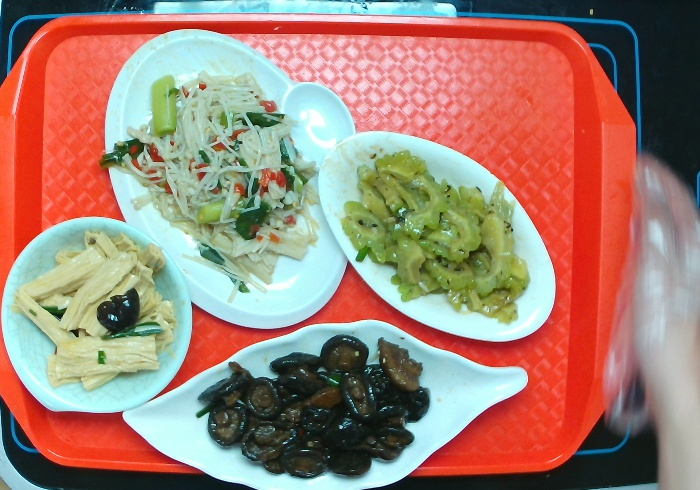RJxy-Bai_Se_Tuo_Yuan: (317, 127, 562, 348)
RJxy-Shu_Ye_Pan: (121, 318, 532, 488)
RJxy-Xiao_Jiao_Yuan_Wan: (1, 212, 195, 419)
RJxy-Zhan_Liao_Pan: (99, 26, 363, 332)
